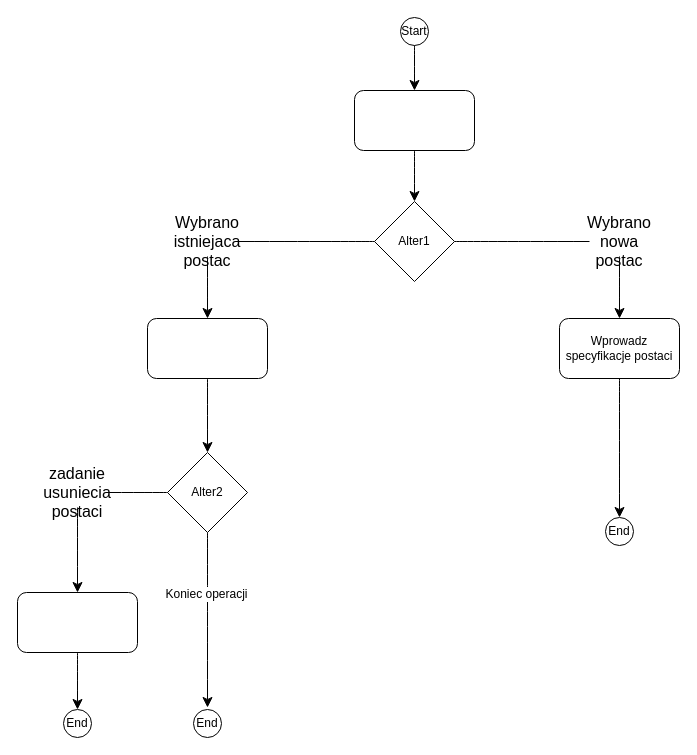
This 697x755 diagram has some shape labels left out. The shapes that lost their labels are listed below. From the top down, each one's centre as x and y in pixels, then its label:
(x=414, y=120): Wybierz postać
(x=207, y=348): Modyfikuj dane postaci
(x=77, y=622): Usuń postać
